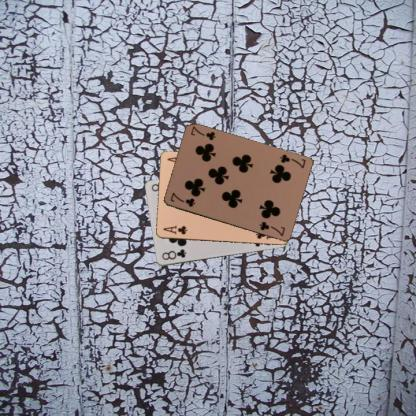7c: (277, 152, 307, 170), (168, 190, 196, 208)
8c: (159, 247, 188, 261)
Ac: (161, 223, 188, 236)
